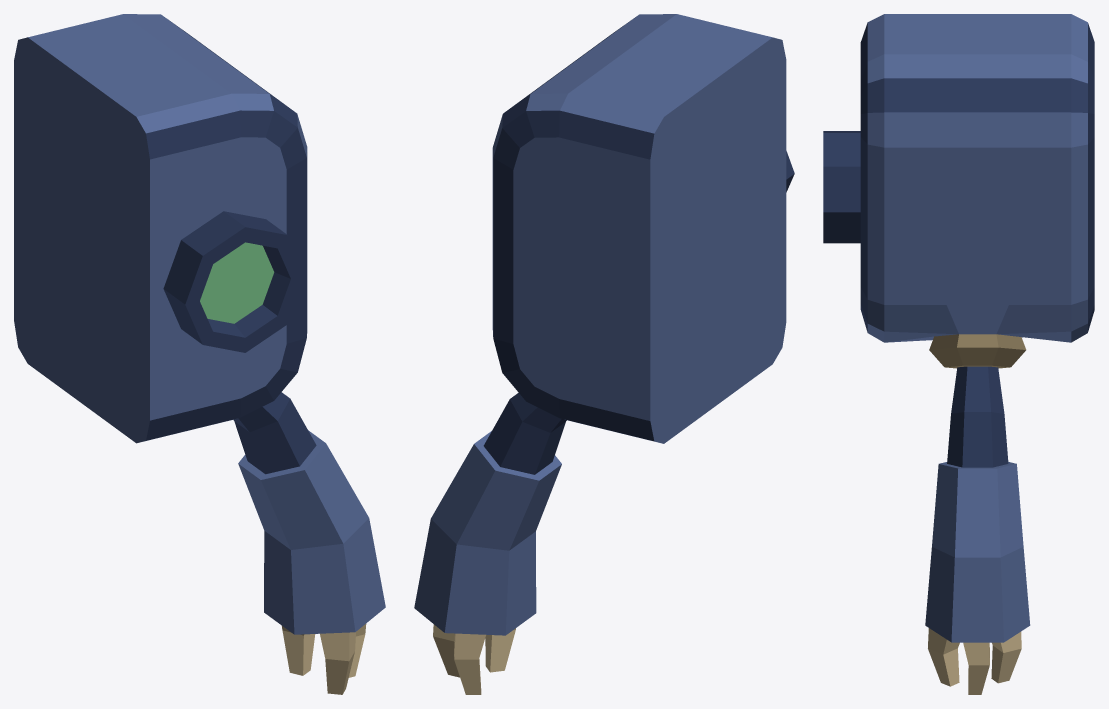
Rendered from robo2.fbx.
The picture shows the model from 3 angles, left to right: view 1: azimuth 30°, elevation 25°; view 2: azimuth 150°, elevation 25°; view 3: azimuth 270°, elevation 25°; orthographic projection. The views are drawn at different scales.
Parts seen in each view (by area): view 1: roboR; view 2: roboR; view 3: roboR.
Part boxes in pixels (<box>): roboR: <box>14,14,385,694</box>; roboR: <box>414,14,794,694</box>; roboR: <box>823,14,1094,694</box>.
Bounding box in the file's own units: 201 × 440 × 190.
